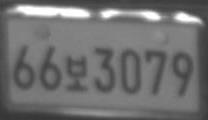0: (120, 47, 141, 94)
3: (93, 47, 115, 92)
6: (12, 44, 35, 89), (39, 46, 61, 89)
7: (144, 50, 166, 95)
9: (171, 51, 194, 96)
보: (65, 54, 88, 92)
